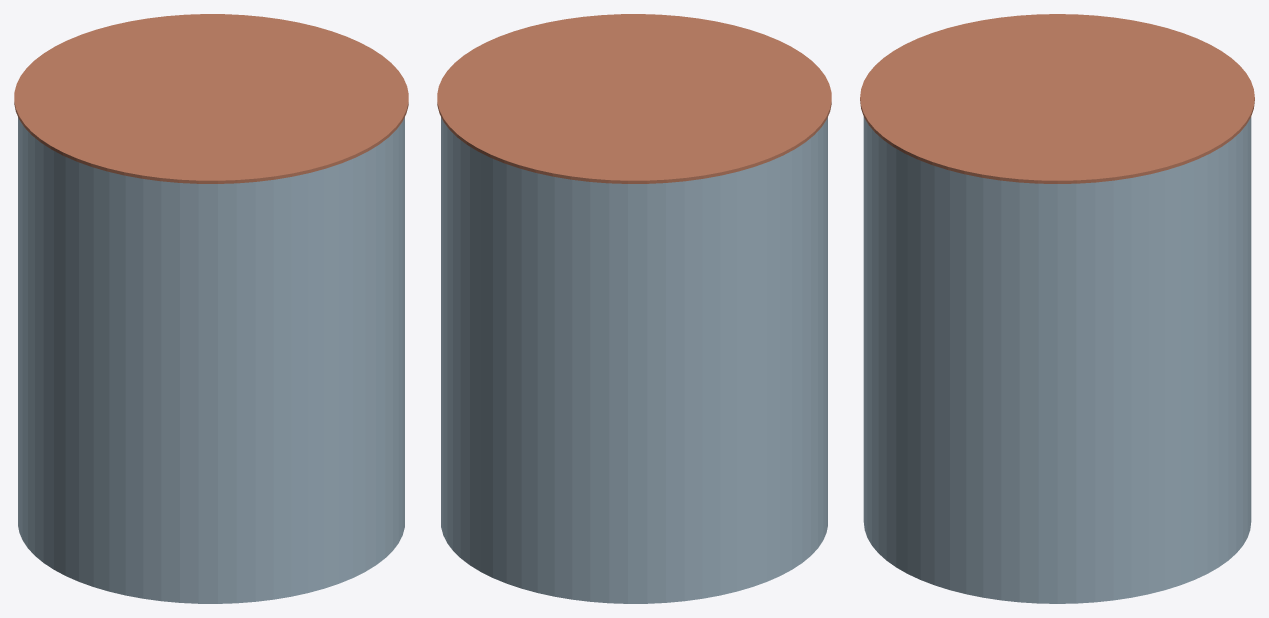
Rendered from building.glb.
3 views of the same model, side by side, from view 1: azimuth 30°, elevation 25°; view 2: azimuth 150°, elevation 25°; view 3: azimuth 270°, elevation 25° (orthographic).
Visible parts, largest first — view 1: A04; view 2: A04; view 3: A04.
Part boxes in pixels (<box>): A04: <box>14,14,408,603</box>; A04: <box>437,14,831,603</box>; A04: <box>860,14,1254,603</box>.
Bounding box in the file's own units: 16.3 × 19.35 × 16.3.
